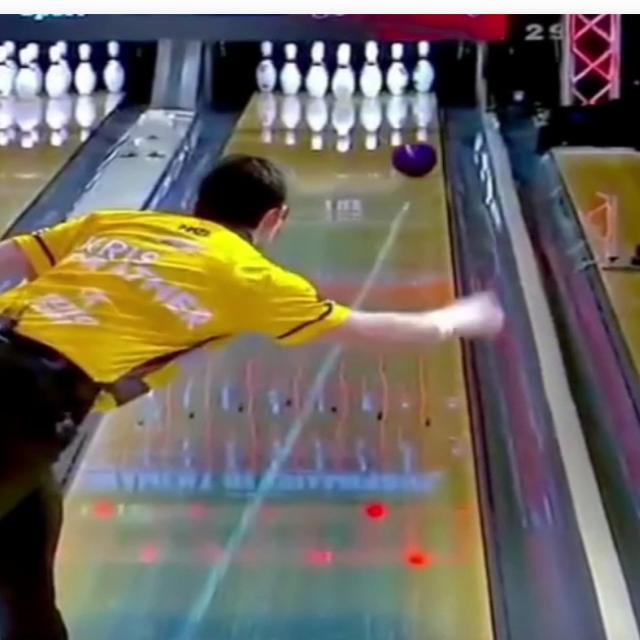alley: (58, 336, 491, 639), (229, 91, 453, 311)
balls: (392, 142, 436, 176)
bottle: (255, 41, 434, 98)
